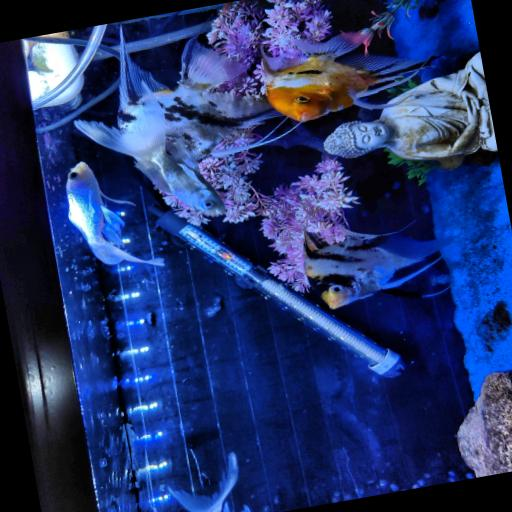Fish: (74, 29, 225, 214), (155, 37, 281, 160), (261, 28, 426, 120), (304, 232, 443, 308), (66, 161, 163, 264), (169, 453, 238, 511), (24, 40, 78, 100)
